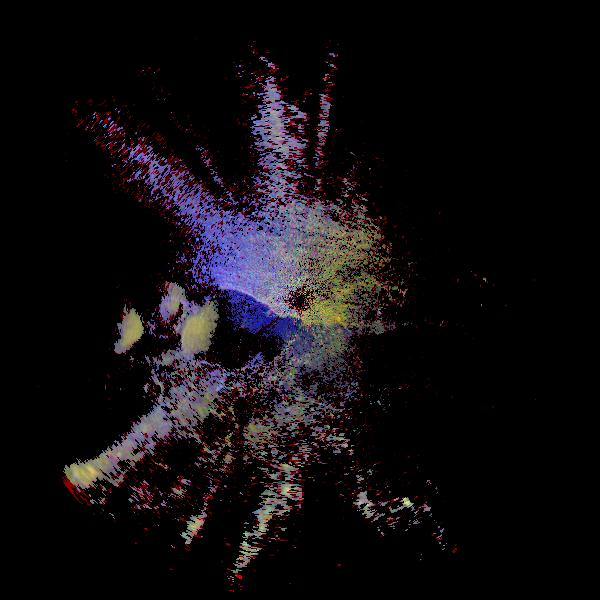roost: (37, 273, 166, 402), (118, 267, 238, 387)
